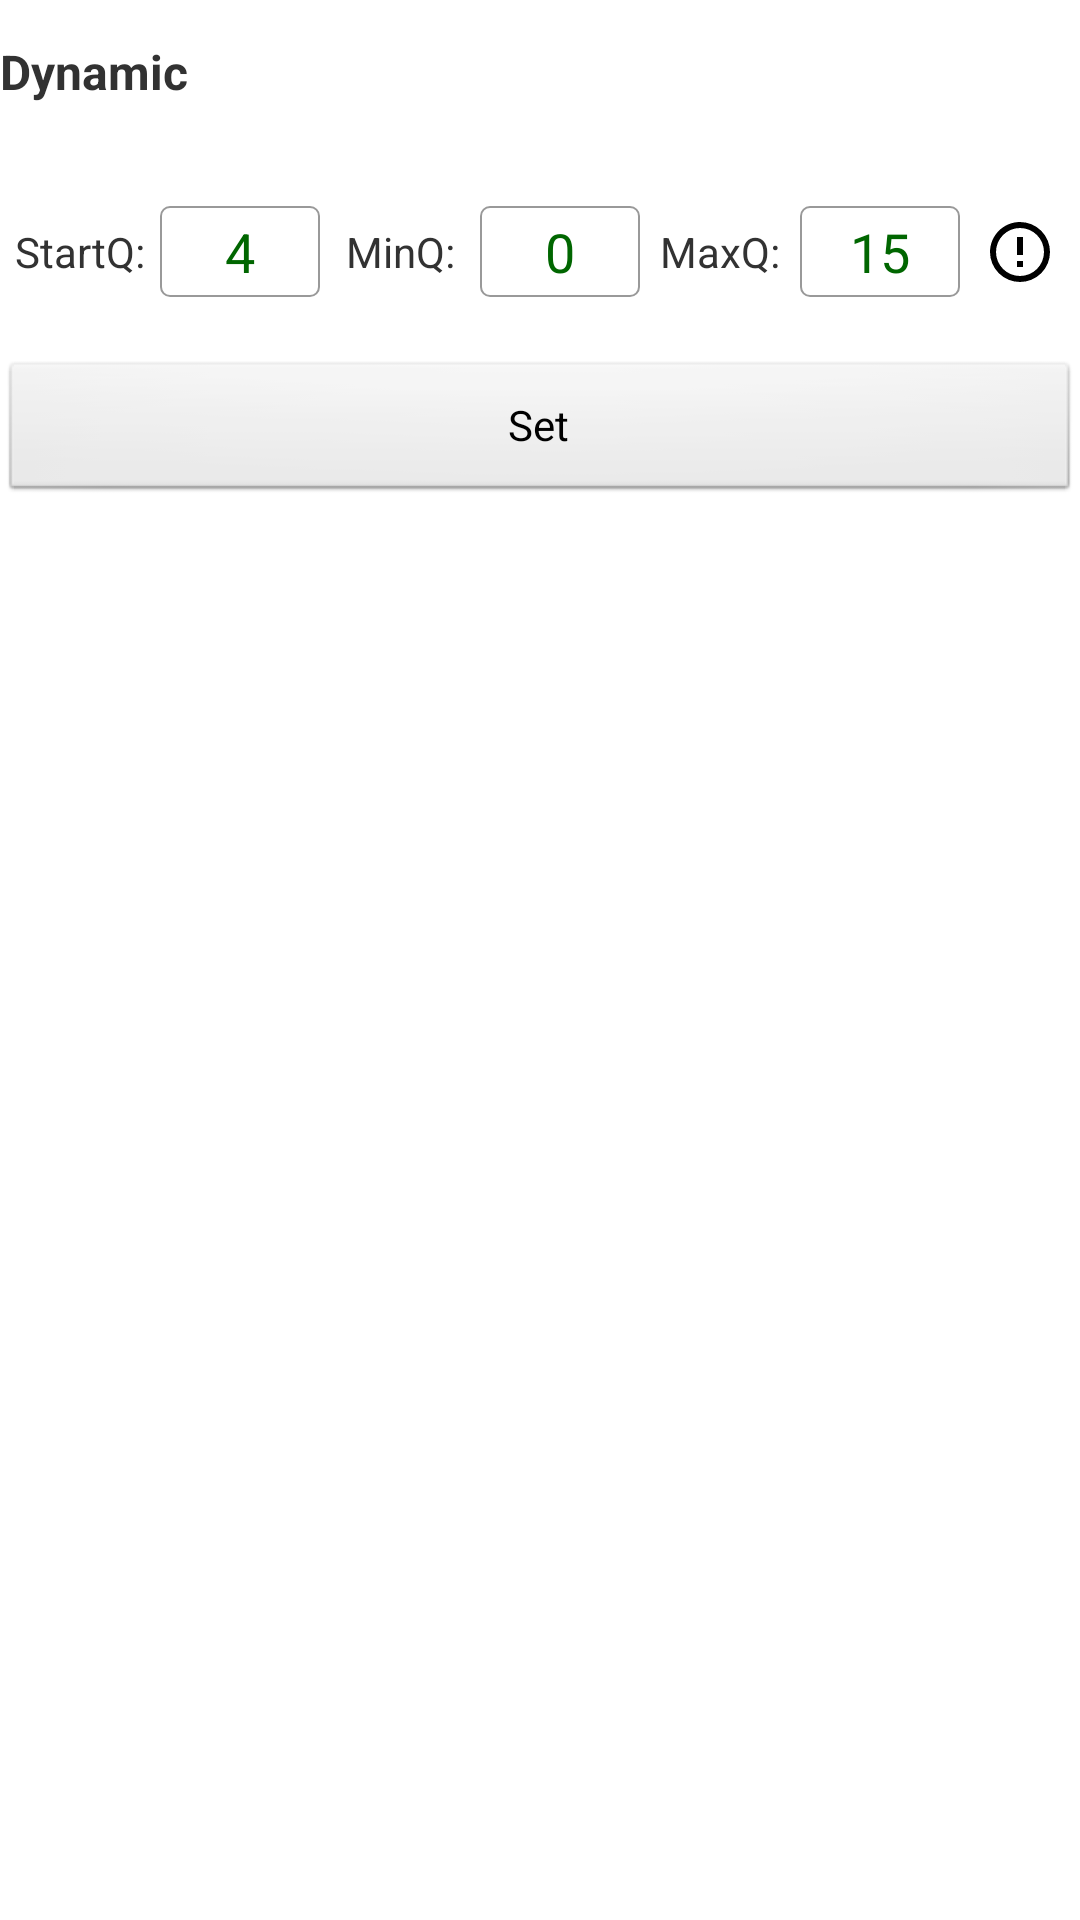

Named icons in this screenshot (1080×1920) and their centers, [x,y]:
alert circle: [1020,252]
